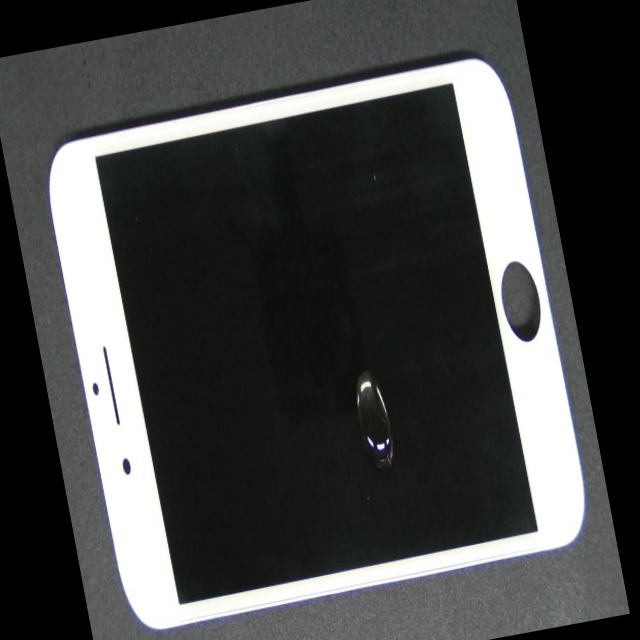oil: (204, 179, 572, 586)
